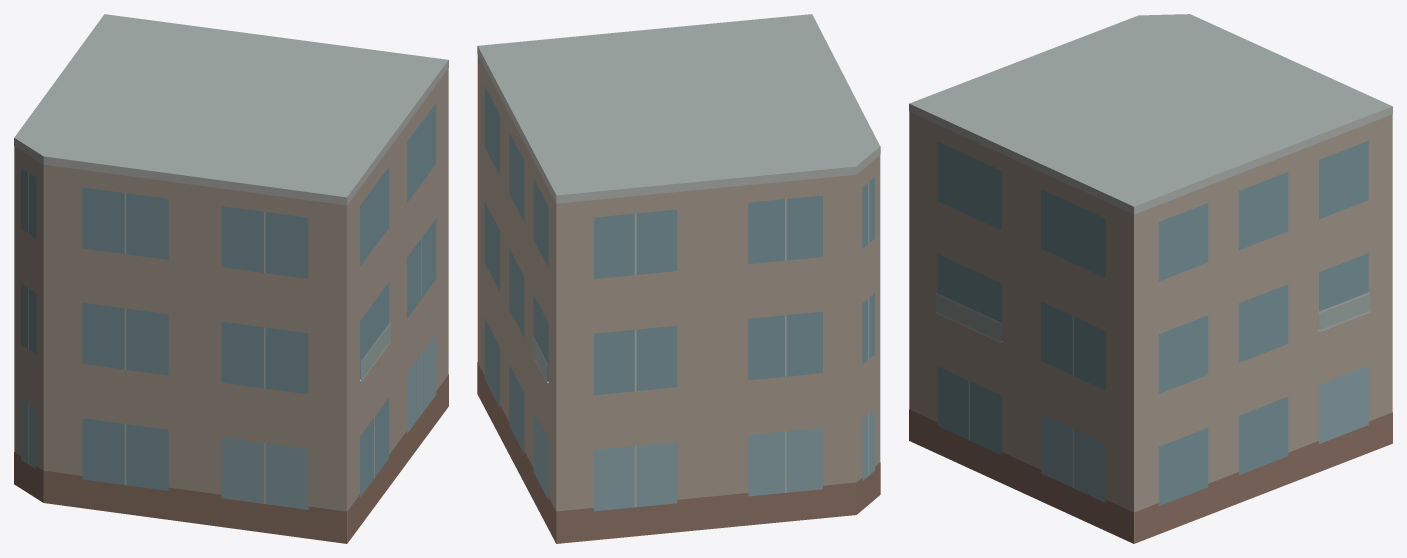
Rendered from survey-upis-32833085.glb.
The picture shows the model from 3 angles, left to right: view 1: azimuth 30°, elevation 25°; view 2: azimuth 150°, elevation 25°; view 3: azimuth 270°, elevation 25°; orthographic projection. The views are drawn at different scales.
Parts seen in each view (by area): view 1: survey-upis-32833085.tmp; view 2: survey-upis-32833085.tmp; view 3: survey-upis-32833085.tmp.
Boxes of the visible parts, bbox=[...] form: survey-upis-32833085.tmp: bbox=[14, 14, 448, 543]; survey-upis-32833085.tmp: bbox=[477, 14, 880, 543]; survey-upis-32833085.tmp: bbox=[909, 14, 1392, 543].
Size of the model in its own units: 12.75 by 10.4 by 13.53.
